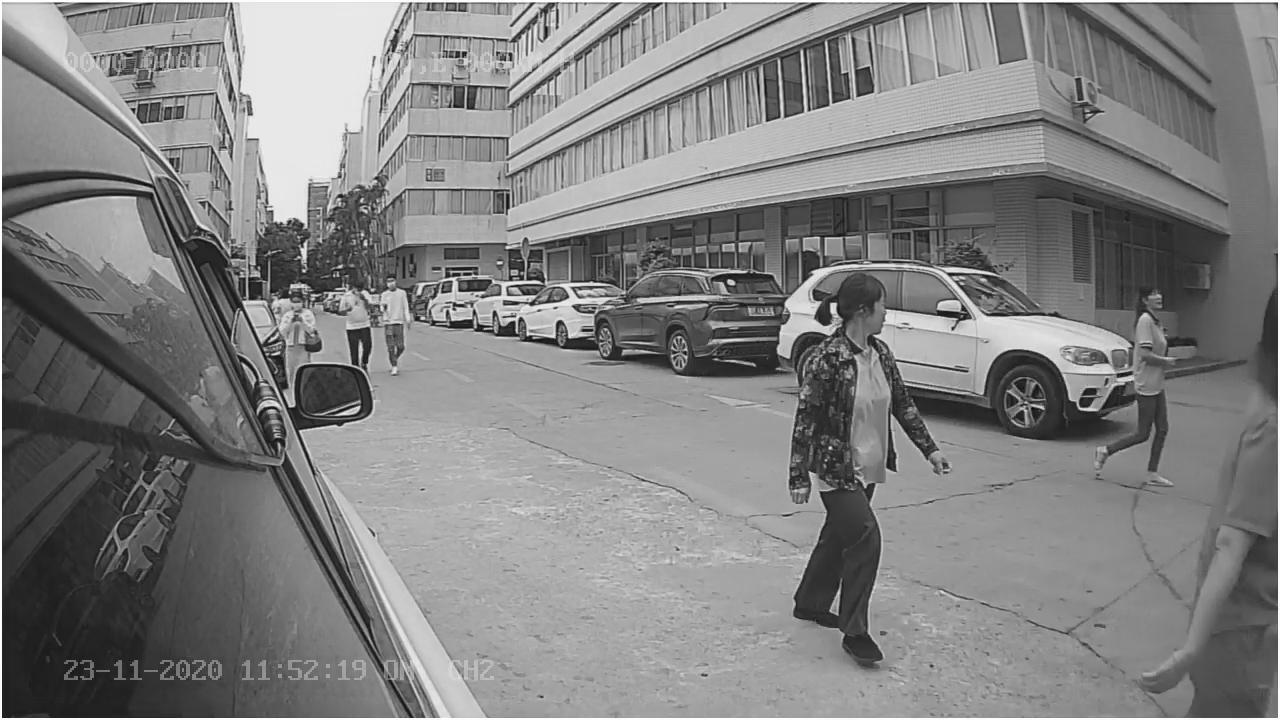person: (784, 266, 934, 656)
